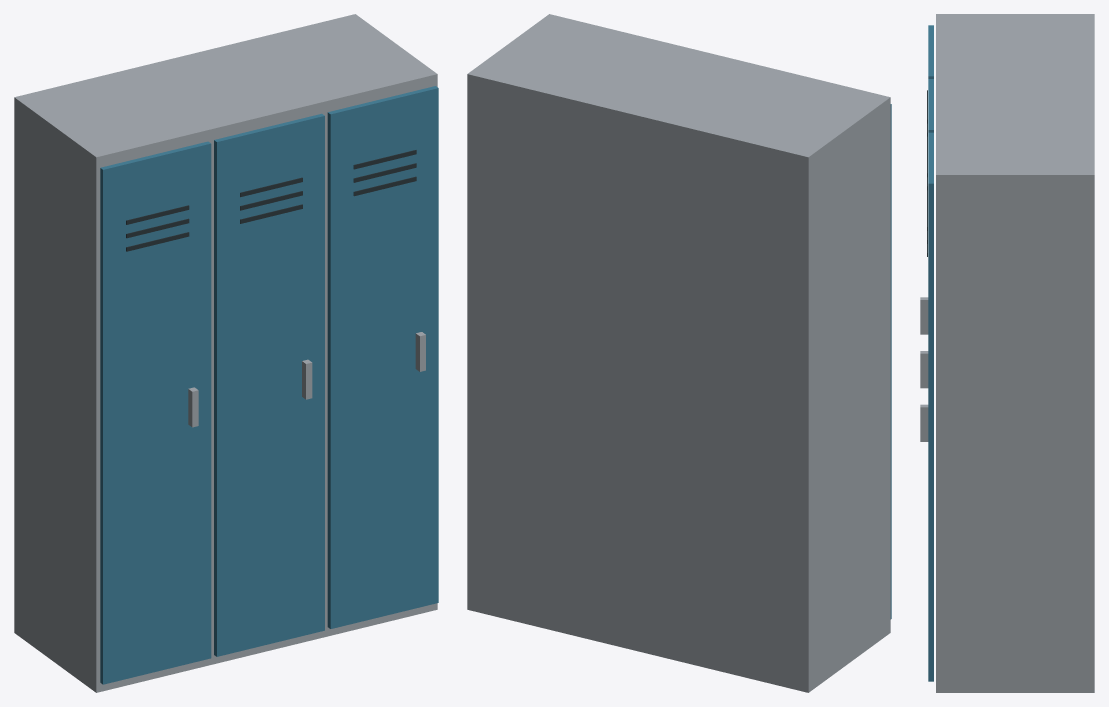
3 renders of one model, left to right at view 1: azimuth 30°, elevation 25°; view 2: azimuth 150°, elevation 25°; view 3: azimuth 270°, elevation 25°, orthographic. The views are drawn at different scales.
Visible parts, largest first — view 1: body, door0, door2, door1; view 2: body, door0; view 3: body, door2, handle0, handle1, handle2, door0, door1.
Boxes of the visible parts, <box> form: body: <box>14,14,437,692</box>; door0: <box>100,141,211,684</box>; door2: <box>327,86,438,628</box>; door1: <box>214,113,324,656</box>; body: <box>467,14,890,692</box>; door0: <box>890,104,891,619</box>; body: <box>936,14,1094,692</box>; door2: <box>928,132,933,681</box>; handle0: <box>920,297,928,334</box>; handle1: <box>920,351,928,388</box>; handle2: <box>920,404,928,441</box>; door0: <box>928,25,933,78</box>; door1: <box>928,79,933,132</box>.
Size of the model in its own units: 1.2 by 1.8 by 0.5495.
